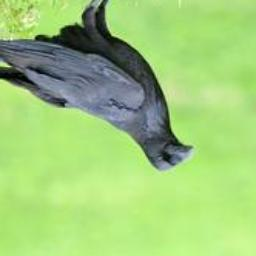Crow: (0, 0, 196, 173)
